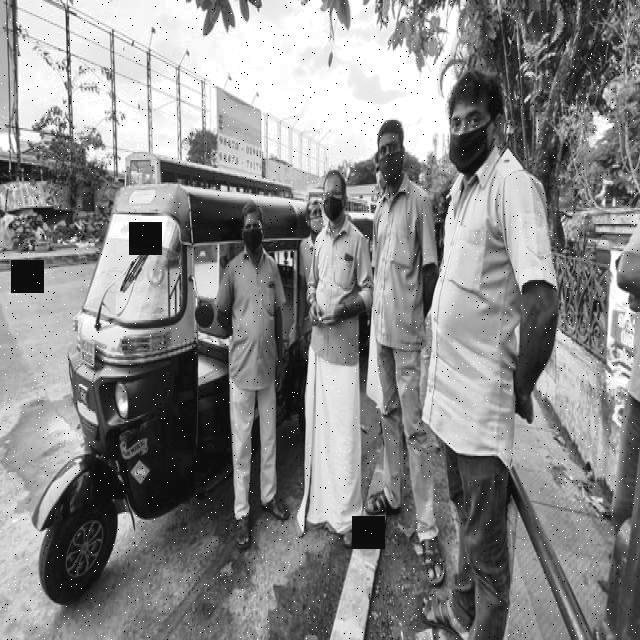Auto-Rickshaw: (29, 163, 317, 621)
